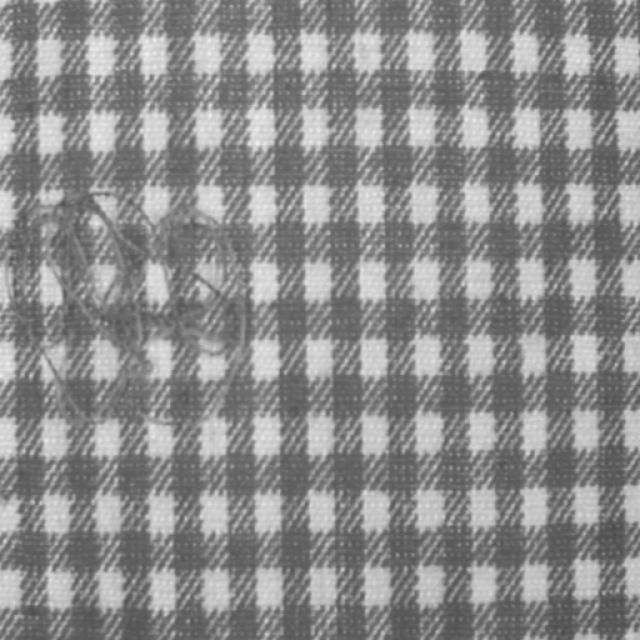Foreign-Body-Defect: (0, 192, 250, 422)
